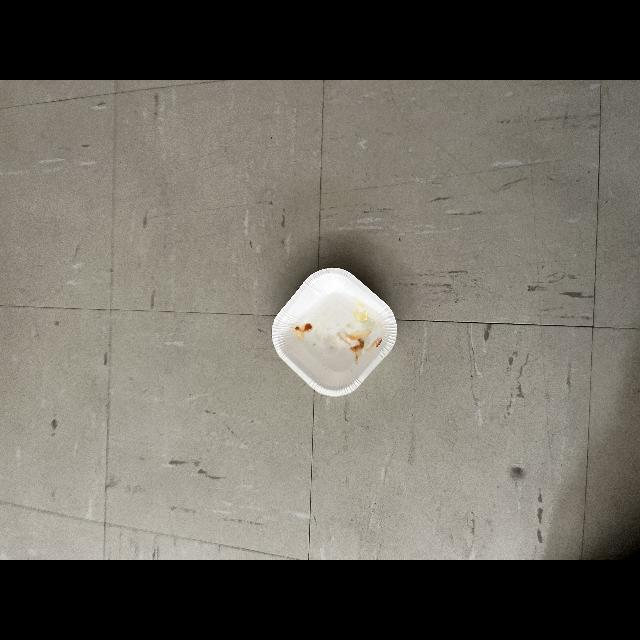cardboard_bowl: (266, 263, 404, 402)
